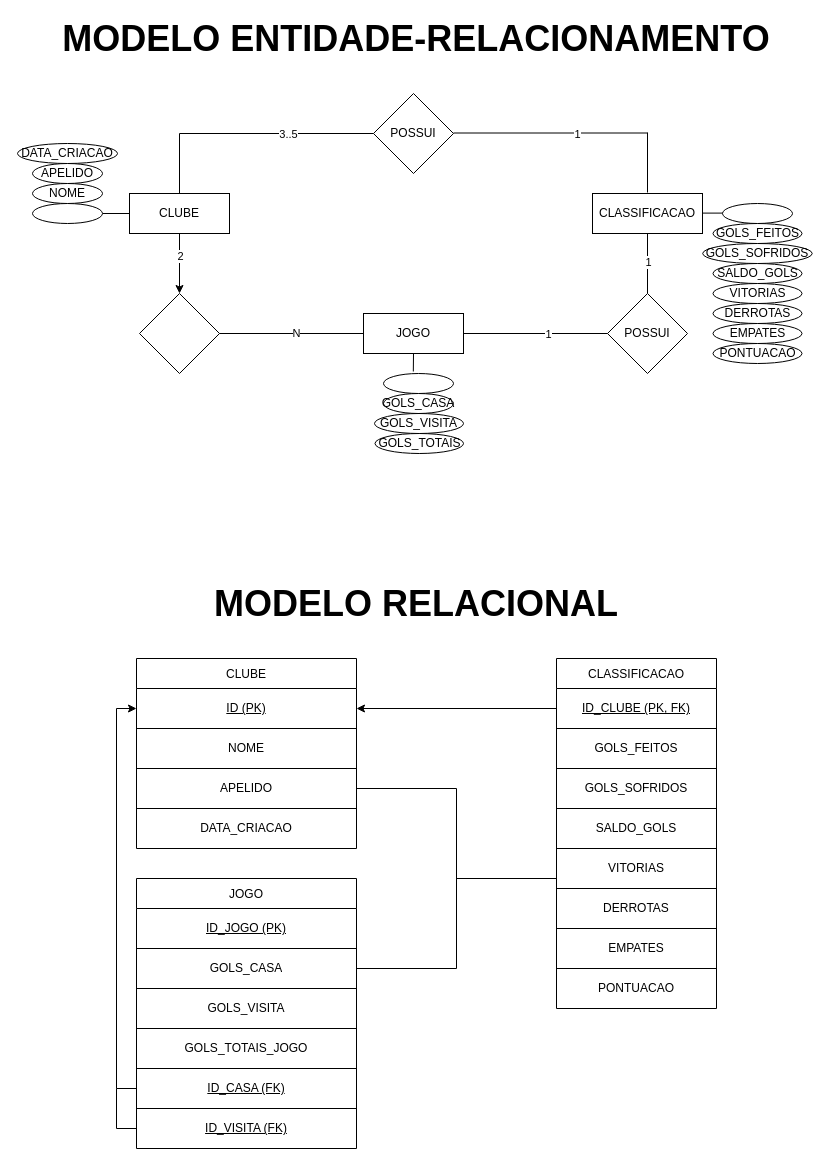
Some shapes in this 830 by 1166 pixel diagram are drawn without their labels. The shapes that lost their labels are listed below. From the top down, each one's centre as x and y in pixels, then its label:
the point at 67,213: ID
the point at 757,213: ID_CLUBE
the point at 179,333: JOGA
the point at 418,383: ID_JOGO
